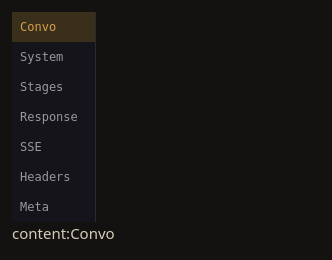
Test: DetailSubRail (Radix Tabs.List) › clicking a segment switches the active content
The width and height of the screenshot is (332, 260).
Expected: the panel reads "content:Convo", [12,223,115,243]
Click the tab "SSE". click: (54, 147)
box: [12,132,95,162]
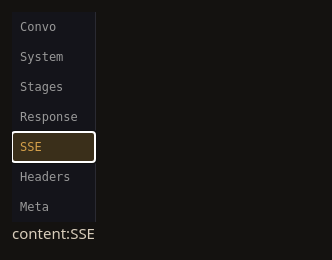
Now the panel reads "content:SSE", box [12,223,95,243]
